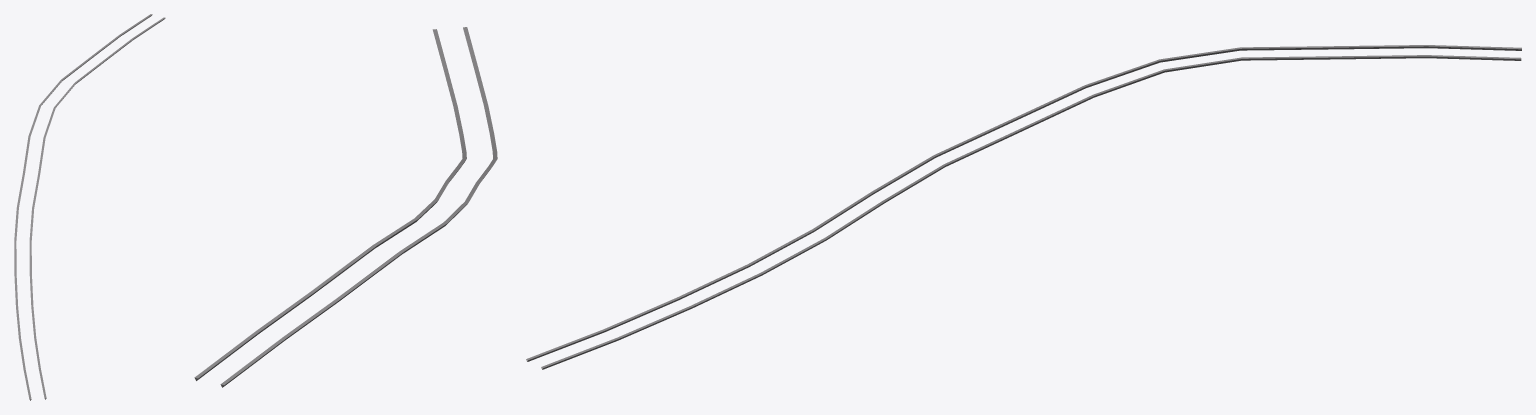
The model's file is SWORDLIGHT20_OBJECT01.fbx.
The picture shows the model from 3 angles, left to right: view 1: azimuth 30°, elevation 25°; view 2: azimuth 210°, elevation 25°; view 3: azimuth 330°, elevation 25°; orthographic projection. The views are drawn at different scales.
Visible parts, largest first — view 1: SWORDLIGHT20_OBJECT01; view 2: SWORDLIGHT20_OBJECT01; view 3: SWORDLIGHT20_OBJECT01.
Part boxes in pixels (x1,y1,x2,y2): SWORDLIGHT20_OBJECT01: (14, 14, 165, 400); SWORDLIGHT20_OBJECT01: (194, 27, 497, 387); SWORDLIGHT20_OBJECT01: (526, 45, 1521, 369).
Size of the model in its own units: 299751 by 78509 by 351001.
1 material, 1 textured.
